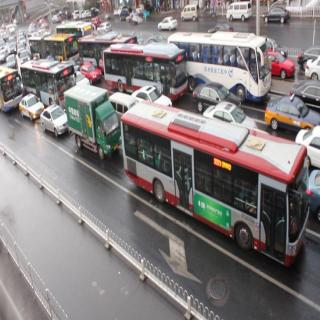BigCar: (120, 96, 316, 278), (99, 42, 190, 100), (62, 82, 118, 167), (21, 59, 75, 112), (77, 29, 139, 75), (26, 30, 78, 68), (0, 58, 21, 119), (56, 20, 95, 40)
Car: (265, 82, 311, 134), (197, 73, 246, 121), (208, 94, 258, 136), (130, 76, 162, 114), (292, 122, 320, 164), (41, 103, 72, 139), (268, 46, 295, 86), (16, 91, 45, 127), (208, 17, 235, 45), (262, 2, 289, 29), (78, 60, 102, 88), (301, 55, 320, 85), (225, 0, 252, 17), (179, 5, 201, 25), (155, 16, 181, 32), (16, 46, 32, 61), (7, 51, 18, 72)
